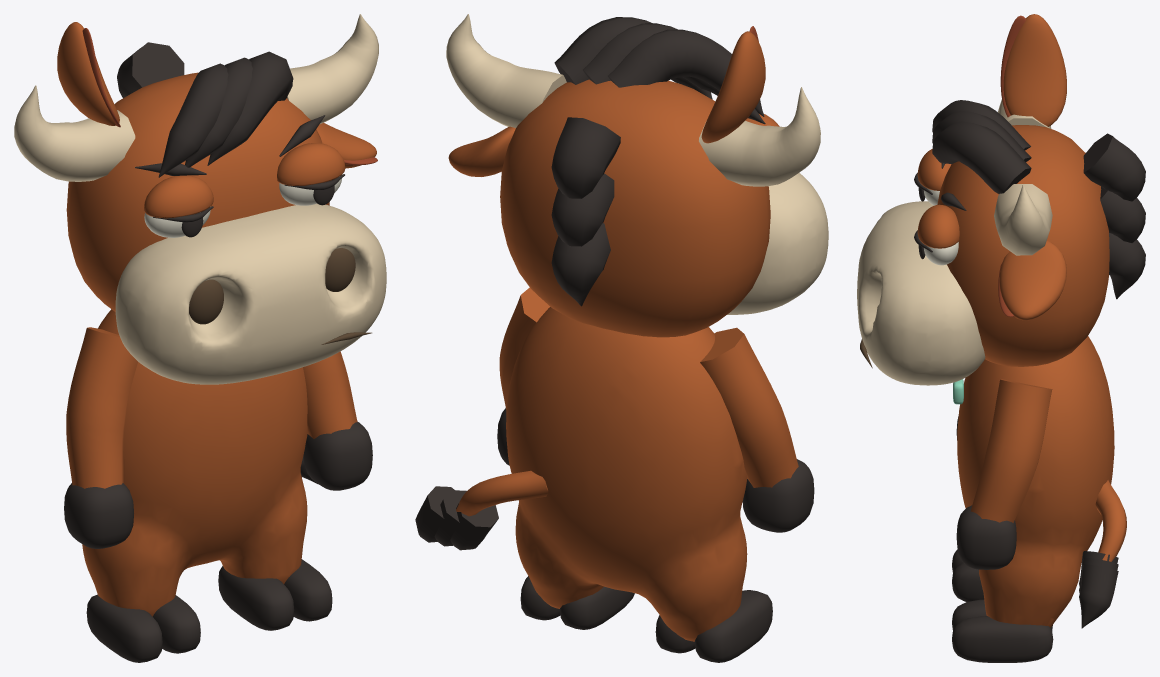
The model's file is niuma.glb.
3 renders of one model, left to right at view 1: azimuth 30°, elevation 25°; view 2: azimuth 150°, elevation 25°; view 3: azimuth 270°, elevation 25°, orthographic. The views are drawn at different scales.
Parts seen in each view (by area): view 1: SeamlessBody, SculptedMuzzle, Head, Arm_-1, Horn_-1, Horn_1, Hand_-1, Forelock_0, Hand_1, Hoof_-1_-1, Arm_1, EarOuter_0 (+15 smaller); view 2: SeamlessBody, Head, Arm_-1, SculptedMuzzle, Horn_-1, Horn_1, Forelock_0, Mane_0, EarOuter_0, Hand_-1, Hoof_-1_-1, Mane_1 (+12 smaller); view 3: SeamlessBody, Head, SculptedMuzzle, Arm_1, EarOuter_0, Forelock_2, EarOuter_1, Hoof_1_1, Horn_1, Hand_1, Mane_0, TailTuft_2 (+11 smaller).
Boxes of the visible parts, x1,y1,x2,y2 form: SeamlessBody: (82, 309, 307, 616); SculptedMuzzle: (115, 203, 386, 384); Head: (66, 72, 329, 311); Arm_-1: (66, 327, 137, 488); Horn_-1: (14, 85, 135, 181); Horn_1: (287, 14, 378, 123); Hand_-1: (64, 483, 133, 548); Forelock_0: (158, 63, 228, 177); Hand_1: (303, 421, 372, 490); Hoof_-1_-1: (86, 594, 162, 662); Arm_1: (303, 351, 357, 438); EarOuter_0: (57, 22, 119, 125); SeamlessBody: (506, 307, 747, 641); Head: (500, 79, 770, 337); Arm_-1: (700, 327, 798, 487); SculptedMuzzle: (727, 173, 828, 314); Horn_-1: (699, 87, 820, 186); Horn_1: (446, 14, 566, 127); Forelock_0: (608, 29, 764, 116); Mane_0: (551, 117, 620, 198); EarOuter_0: (701, 31, 765, 143); Hand_-1: (742, 459, 814, 532); Hoof_-1_-1: (695, 590, 772, 662); Mane_1: (551, 173, 614, 246); SeamlessBody: (957, 336, 1114, 627); Head: (937, 125, 1109, 366); SculptedMuzzle: (857, 201, 985, 385); Arm_1: (970, 379, 1052, 522); EarOuter_0: (1003, 14, 1066, 126); Forelock_2: (932, 121, 1031, 193); EarOuter_1: (999, 240, 1066, 320); Hoof_1_1: (952, 616, 1053, 662); Horn_1: (994, 184, 1052, 255); Hand_1: (956, 505, 1016, 569); Mane_0: (1083, 133, 1145, 201); TailTuft_2: (1079, 564, 1118, 628).
Bounding box in the file's own units: 2.35 × 3.88 × 1.82.
